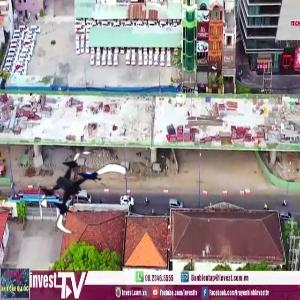drone: (32, 148, 121, 237)
